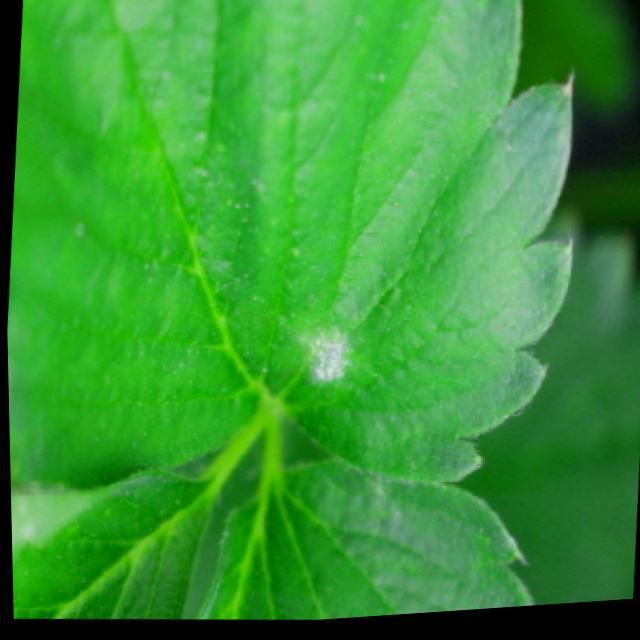Powdery Mildew Leaf: (5, 0, 575, 493), (185, 462, 531, 624)
